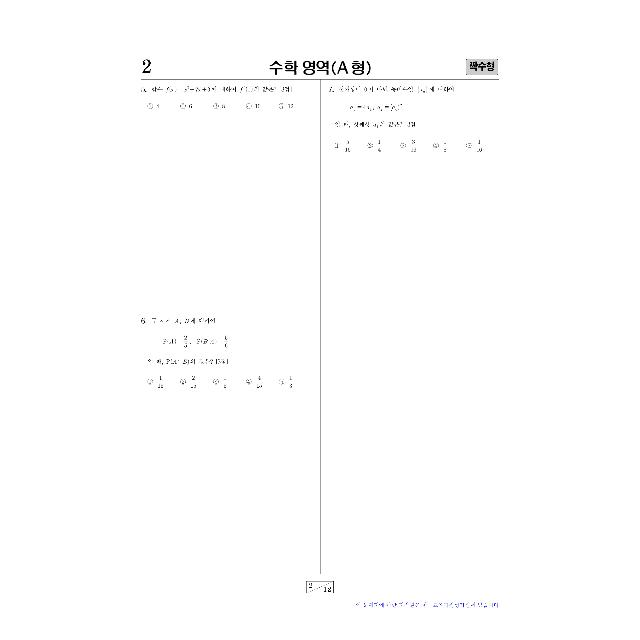multiple: (138, 312, 316, 398), (324, 82, 501, 162), (137, 82, 309, 116)
